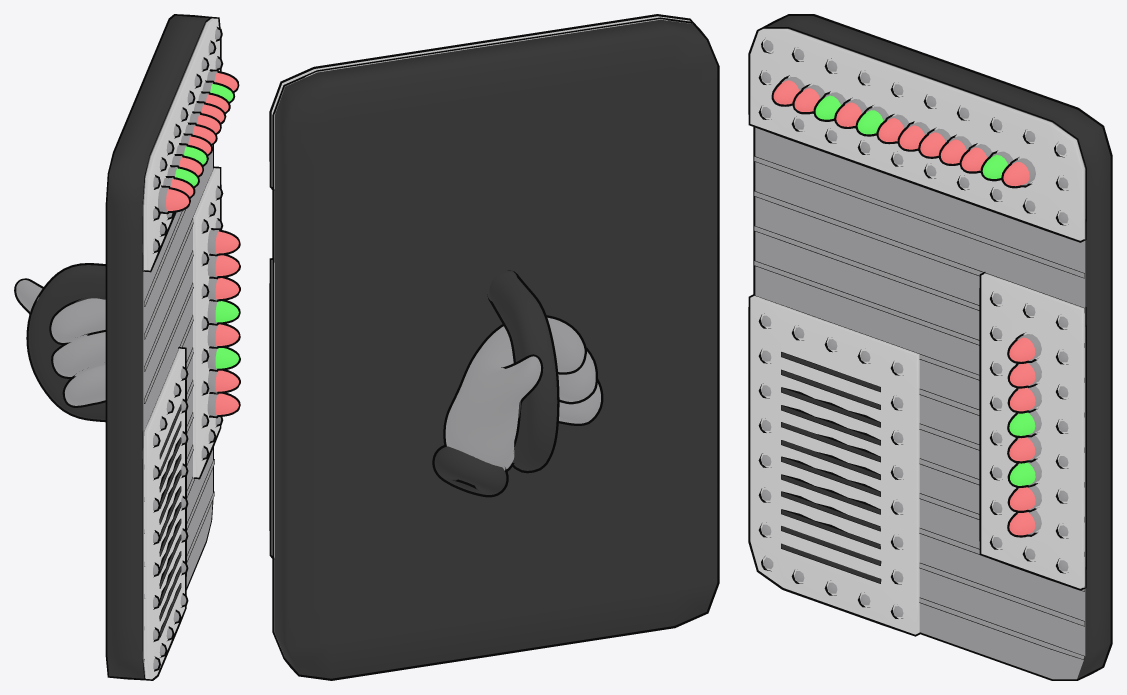
Rendered from LH.PHYSICS.ROBOT.glb.
The picture shows the model from 3 angles, left to right: view 1: azimuth 30°, elevation 25°; view 2: azimuth 150°, elevation 25°; view 3: azimuth 270°, elevation 25°; orthographic projection. The views are drawn at different scales.
Parts seen in each view (by area): view 1: LH.PHYSICS.ROBOT; view 2: LH.PHYSICS.ROBOT; view 3: LH.PHYSICS.ROBOT.
Boxes of the visible parts, bbox=[...] form: LH.PHYSICS.ROBOT: bbox=[14, 14, 240, 680]; LH.PHYSICS.ROBOT: bbox=[269, 14, 719, 680]; LH.PHYSICS.ROBOT: bbox=[748, 14, 1112, 680].
Size of the model in its own units: 1.07 by 2.08 by 1.22.
